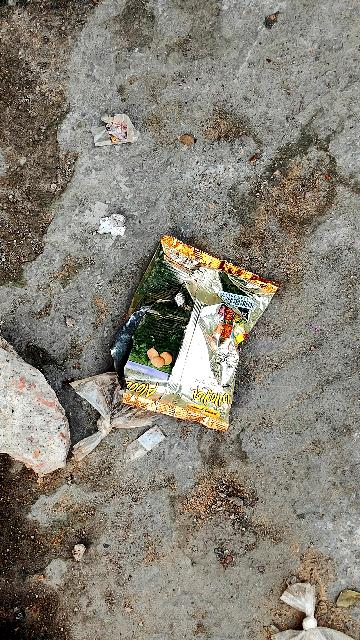packet: (112, 223, 272, 439)
